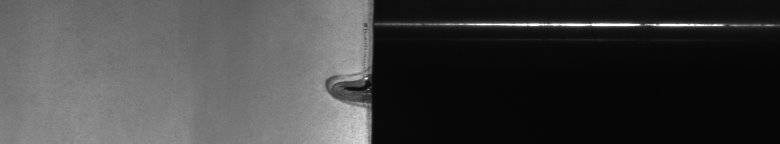hb: (317, 66, 360, 116)
